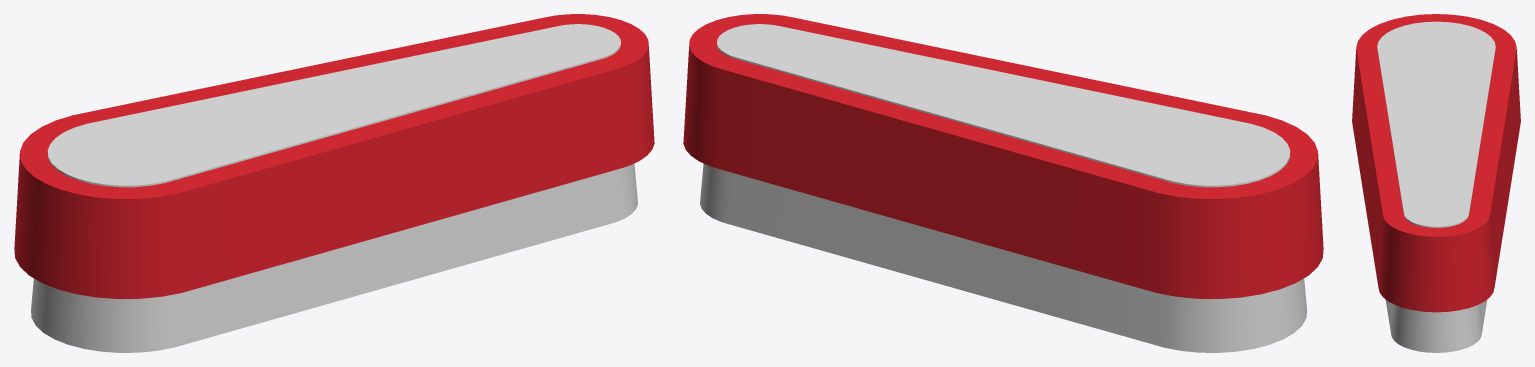
Rendered from Flipper, Bally, Flat (3in).fbx.
The picture shows the model from 3 angles, left to right: view 1: azimuth 30°, elevation 25°; view 2: azimuth 150°, elevation 25°; view 3: azimuth 270°, elevation 25°; orthographic projection. The views are drawn at different scales.
Visible parts, largest first — view 1: Flipper, Bally, Flat, 3"; view 2: Flipper, Bally, Flat, 3"; view 3: Flipper, Bally, Flat, 3".
Part boxes in pixels (box(x1,y1,x2,y2)): Flipper, Bally, Flat, 3": box(14, 14, 654, 352); Flipper, Bally, Flat, 3": box(683, 14, 1323, 352); Flipper, Bally, Flat, 3": box(1352, 14, 1520, 352).
Bounding box in the file's own units: 8.31 × 2.07 × 2.62.
